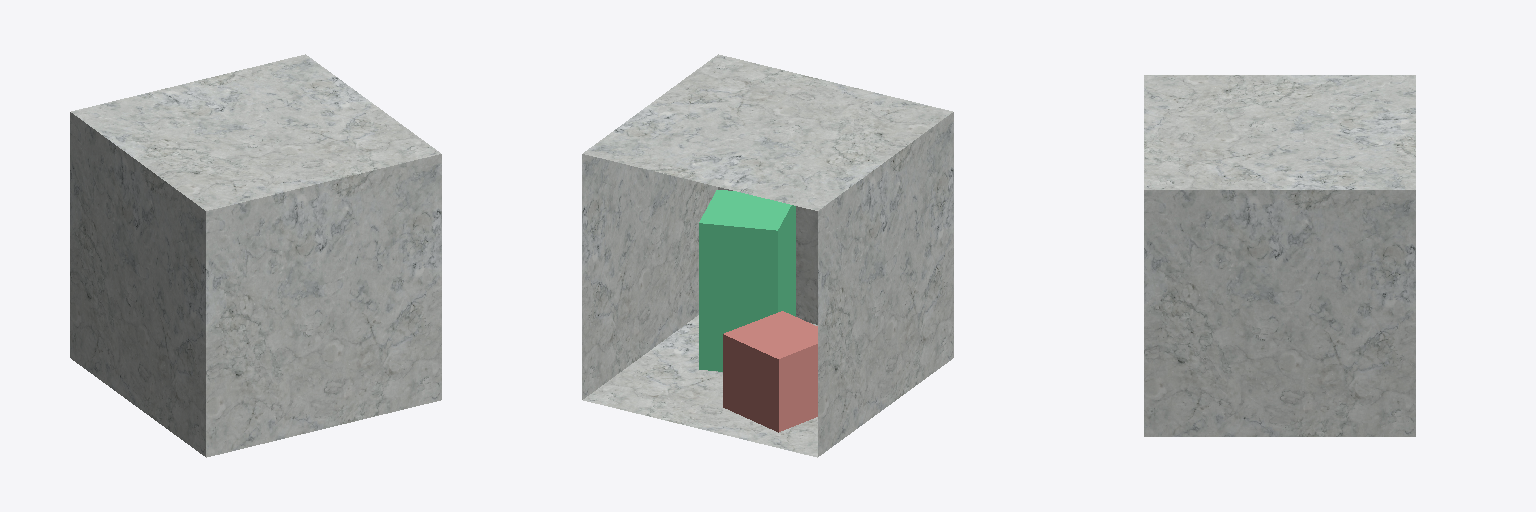
The picture shows the model from 3 angles: view 1: azimuth 30°, elevation 25°; view 2: azimuth 150°, elevation 25°; view 3: azimuth 270°, elevation 25°; orthographic projection.
Parts seen in each view (by area): view 1: room; view 2: room, tall, short; view 3: room.
Boxes of the visible parts, <box> form: room: <box>70,54,441,457</box>; room: <box>582,54,953,457</box>; tall: <box>699,190,795,371</box>; short: <box>723,311,817,432</box>; room: <box>1144,75,1415,436</box>.
Bounding box in the file's own units: 555 × 555 × 555.
Materials: 5 (3 with a texture image).